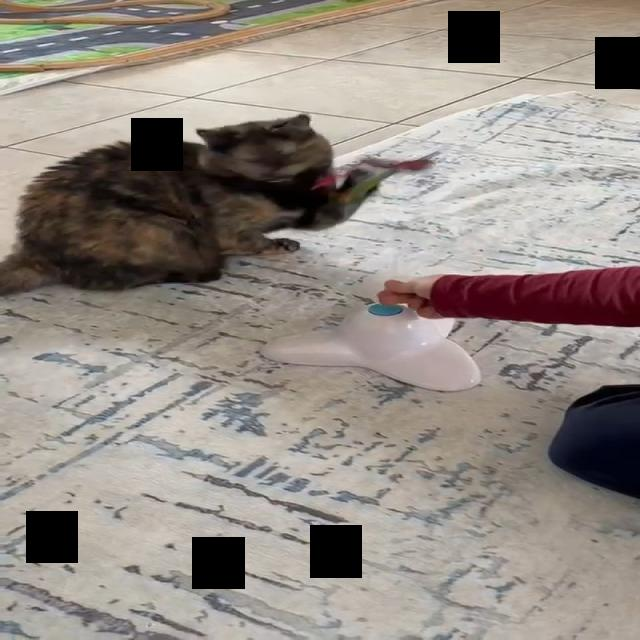authorized: (0, 112, 436, 296)
